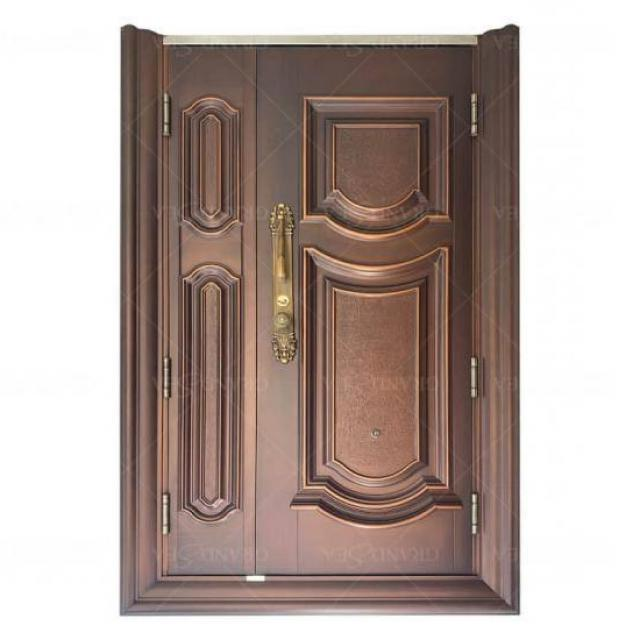door: (147, 27, 514, 603)
